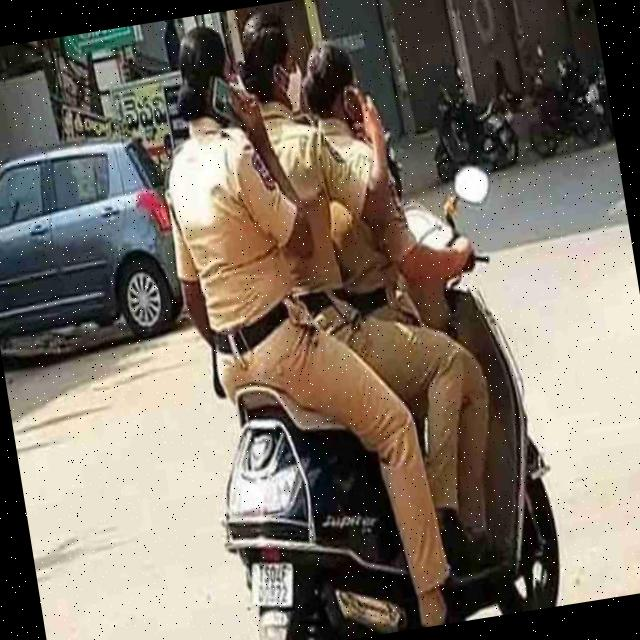Triple riding: (136, 0, 451, 427)
